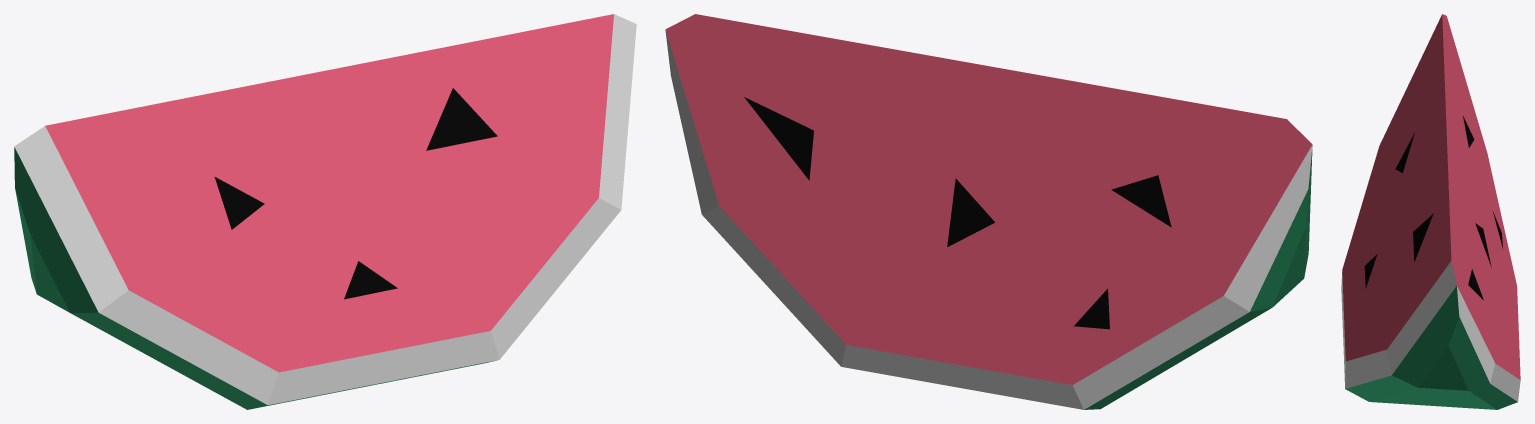
The model's file is WatermelonSlice.fbx.
3 views of the same model, side by side, from view 1: azimuth 30°, elevation 25°; view 2: azimuth 150°, elevation 25°; view 3: azimuth 270°, elevation 25° (orthographic). The views are drawn at different scales.
Visible parts, largest first — view 1: Watermelon Slice; view 2: Watermelon Slice; view 3: Watermelon Slice.
Boxes of the visible parts, x1=… form: Watermelon Slice: x1=14, y1=14, x2=636, y2=409; Watermelon Slice: x1=665, y1=14, x2=1312, y2=409; Watermelon Slice: x1=1341, y1=14, x2=1520, y2=409.
Size of the model in its own units: 2.04 by 0.6408 by 0.9663.
